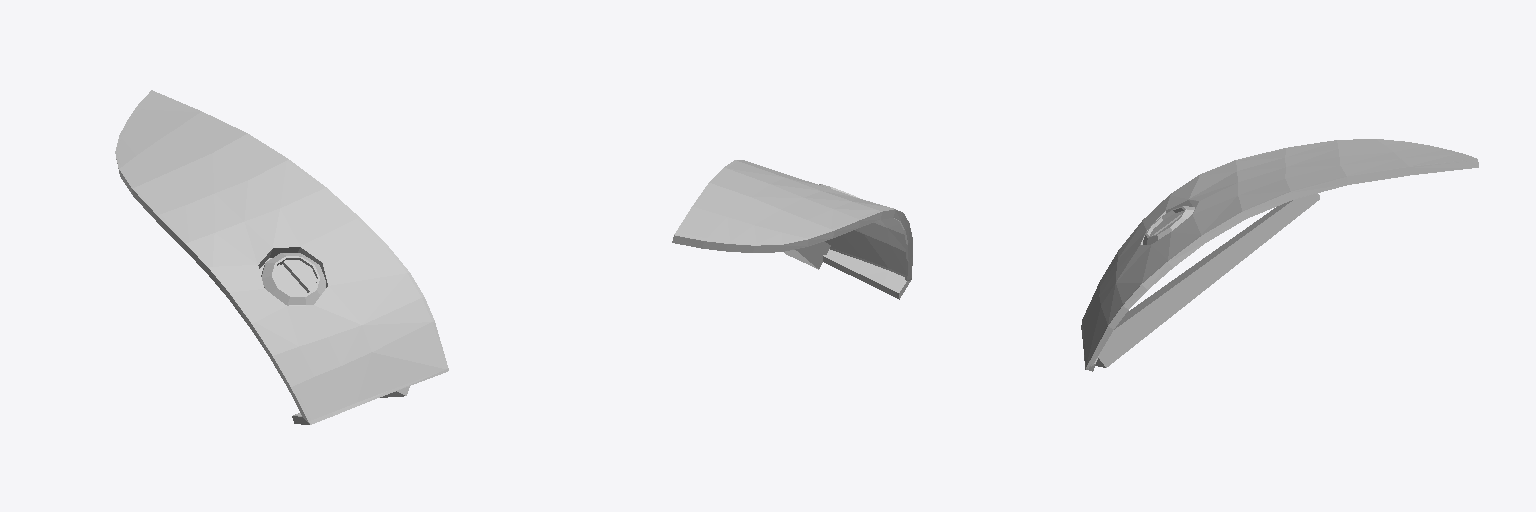
File: rwing.obj
3 renders of one model, left to right at view 1: azimuth 30°, elevation 25°; view 2: azimuth 150°, elevation 25°; view 3: azimuth 270°, elevation 25°, orthographic.
Parts seen in each view (by area): view 1: IronMan:null_38, IronMan:null_37; view 2: IronMan:null_38, IronMan:null_165; view 3: IronMan:null_38, IronMan:null_165, IronMan:null_37.
Boxes of the visible parts, box(x1,y1,x2,y2) form: IronMan:null_38: box(115, 90, 448, 424); IronMan:null_37: box(261, 253, 325, 305); IronMan:null_38: box(672, 160, 912, 299); IronMan:null_165: box(784, 241, 830, 269); IronMan:null_38: box(1081, 139, 1478, 371); IronMan:null_165: box(1096, 193, 1319, 367); IronMan:null_37: box(1143, 206, 1194, 244).
Size of the model in its own units: 13.08 by 12.35 by 23.53.